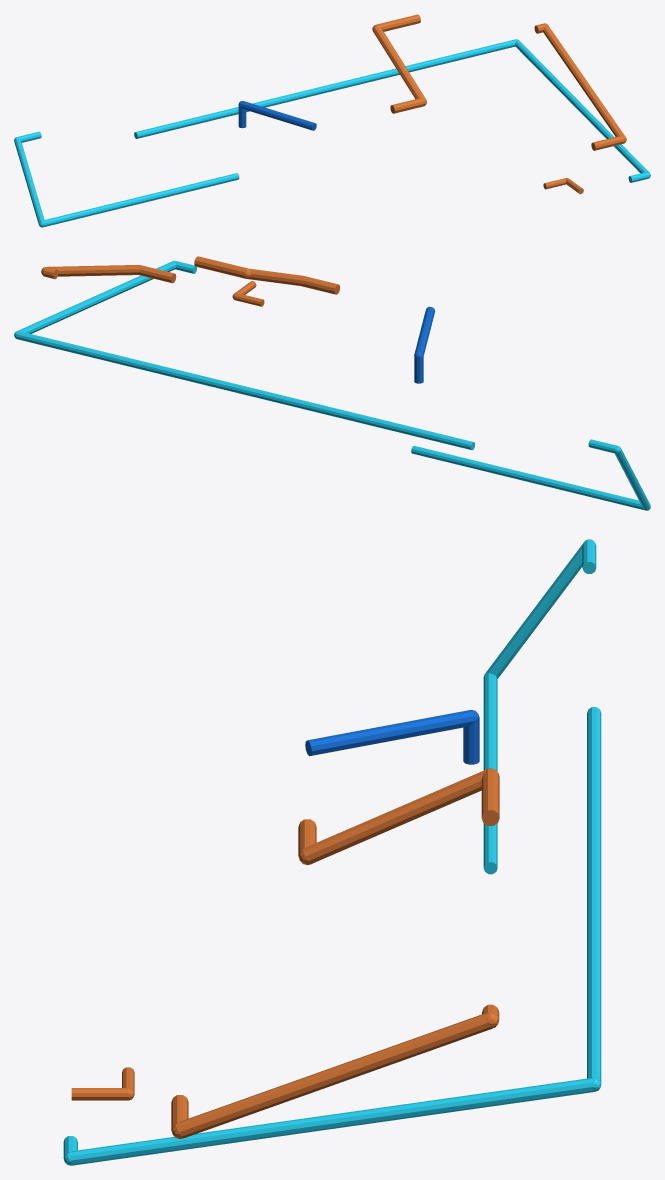
Rendered from 20_L69_CopperRefrigerantPipelineNetwork.fbx.
3 renders of one model, top to bottom at view 1: azimuth 30°, elevation 25°; view 2: azimuth 150°, elevation 25°; view 3: azimuth 270°, elevation 25°, orthographic. The views are drawn at different scales.
Visible parts, largest first — view 1: CopperRefrigerantPipelineNetwork; view 2: CopperRefrigerantPipelineNetwork; view 3: CopperRefrigerantPipelineNetwork.
Boxes of the visible parts, x1,y1,x2,y2 form: CopperRefrigerantPipelineNetwork: (14,14,650,227); CopperRefrigerantPipelineNetwork: (14,256,650,510); CopperRefrigerantPipelineNetwork: (63,539,601,1165).
Bounding box in the file's own units: 1227 × 278 × 561.
